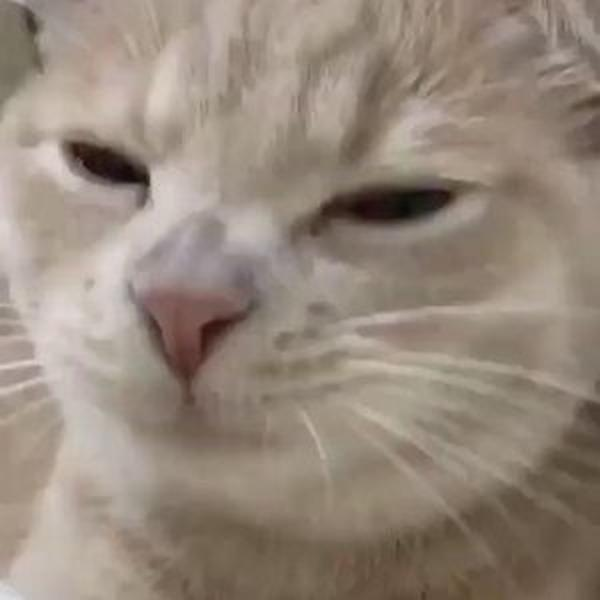michi: (5, 3, 600, 562)
